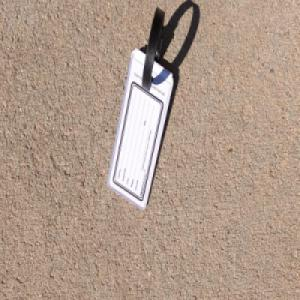LuggageTag: (106, 5, 175, 210)
